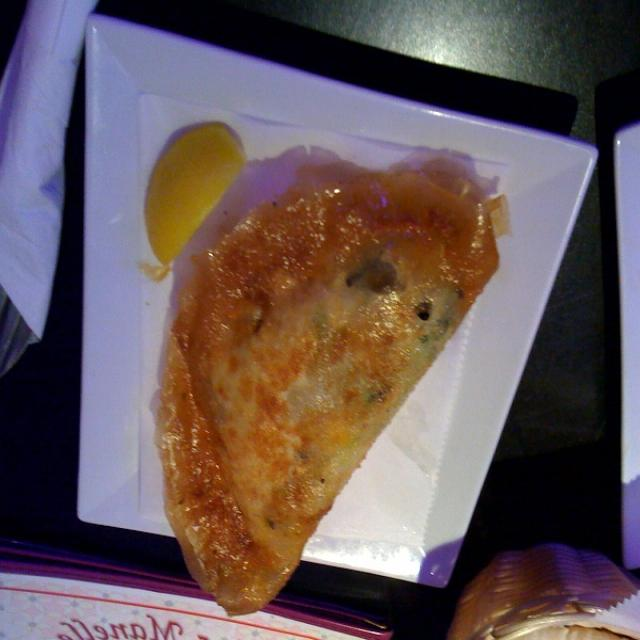brik: (159, 187, 543, 622)
